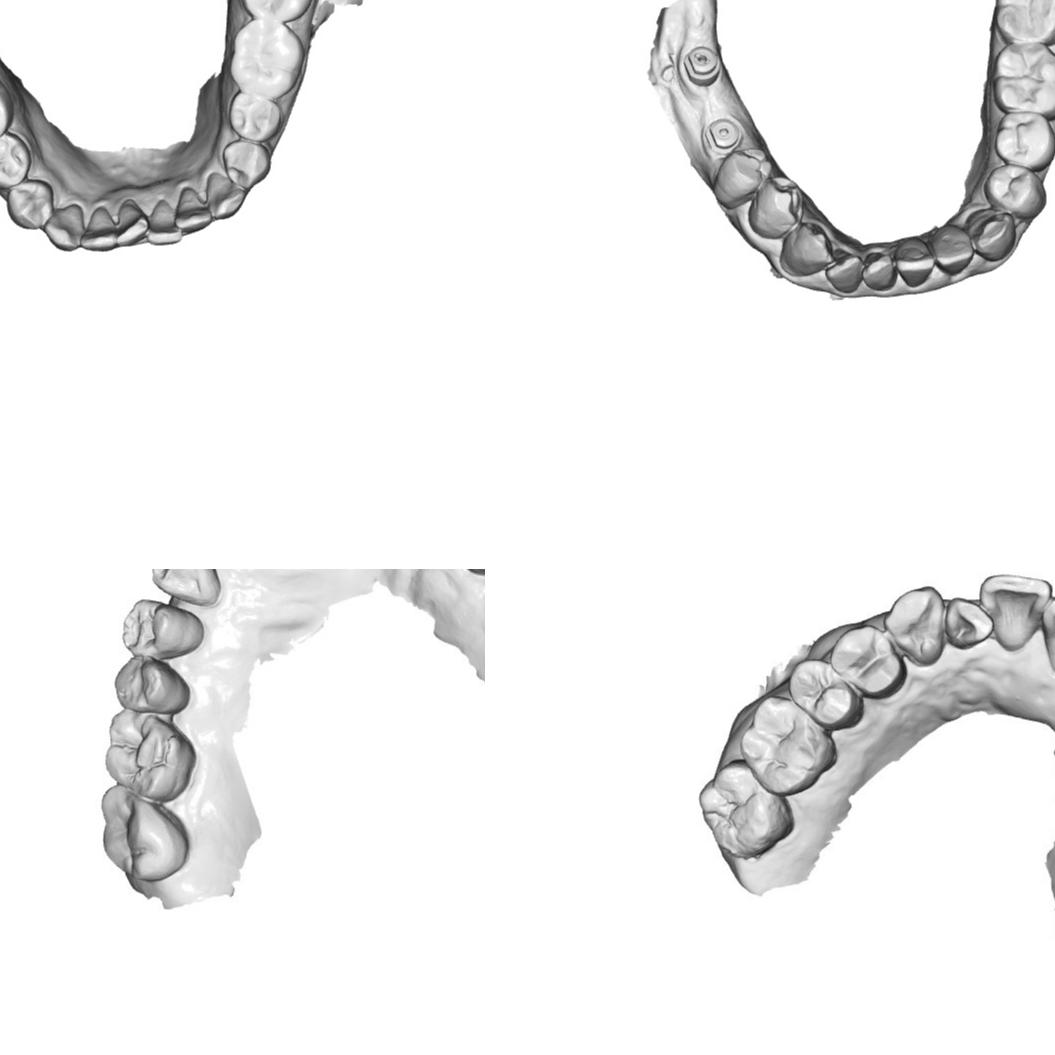canine: (884, 585, 947, 667), (777, 223, 832, 280), (969, 211, 1018, 263), (43, 202, 85, 254), (206, 170, 247, 221), (154, 569, 219, 600)
implant: (699, 117, 745, 154)
implant_minus: (676, 40, 724, 88)
incisor: (984, 573, 1050, 651), (943, 594, 995, 649), (927, 224, 975, 277), (892, 235, 936, 290), (174, 185, 214, 234), (78, 204, 118, 252), (822, 254, 865, 297), (859, 249, 899, 295), (147, 197, 184, 244), (114, 198, 150, 246), (1041, 595, 1055, 674)
molar: (736, 698, 839, 796), (695, 764, 794, 861), (94, 788, 186, 885), (102, 709, 202, 797), (229, 18, 304, 98), (991, 42, 1055, 116), (991, 0, 1055, 46), (239, 0, 315, 23)
premolar: (121, 594, 209, 659), (828, 626, 904, 700), (788, 656, 858, 732), (112, 655, 190, 715), (712, 143, 775, 208), (745, 174, 806, 241), (992, 110, 1055, 171), (983, 162, 1048, 216), (220, 138, 272, 190), (228, 90, 281, 140), (5, 178, 54, 230), (0, 131, 31, 190)
